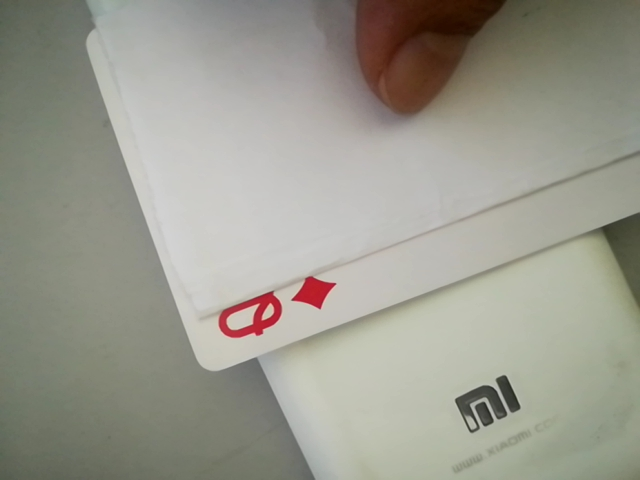fk q: (201, 274, 334, 353)
